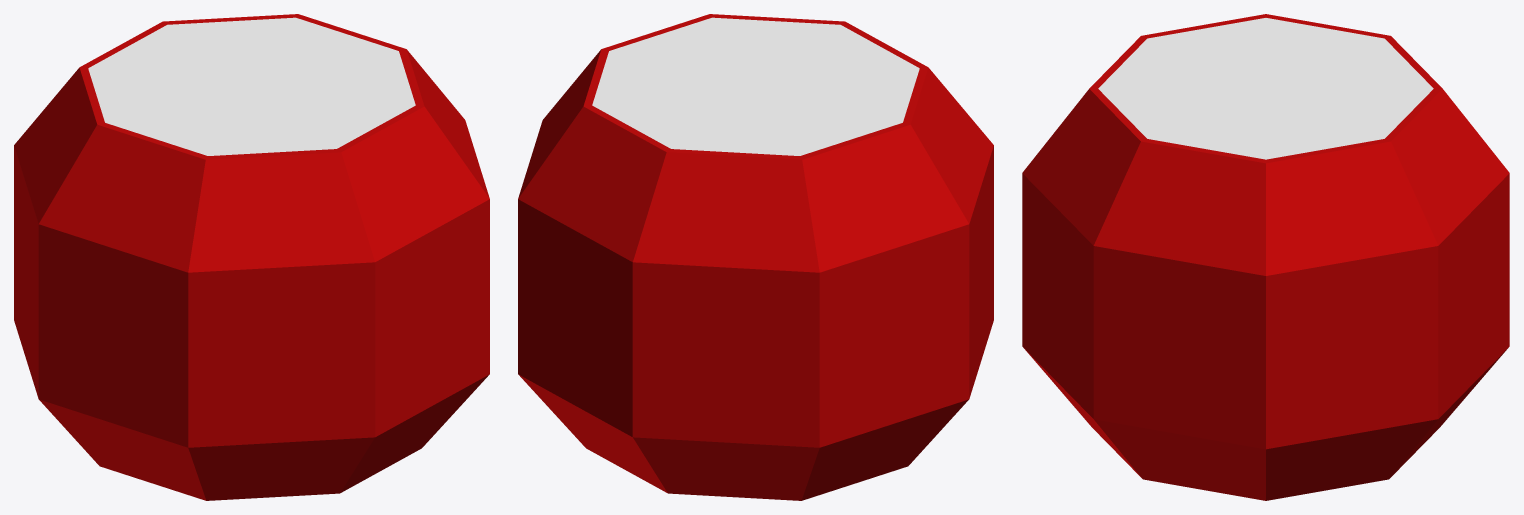
File: radish02.obj
3 views of the same model, side by side, from view 1: azimuth 30°, elevation 25°; view 2: azimuth 150°, elevation 25°; view 3: azimuth 270°, elevation 25° (orthographic).
Parts seen in each view (by area): view 1: Cylinder; view 2: Cylinder; view 3: Cylinder.
Part boxes in pixels (x1=…): Cylinder: x1=14, y1=14, x2=489, y2=500; Cylinder: x1=518, y1=14, x2=993, y2=500; Cylinder: x1=1022, y1=14, x2=1509, y2=500.
Size of the model in its own units: 0.0594 by 0.0455 by 0.0594.
1 material, 1 textured.
